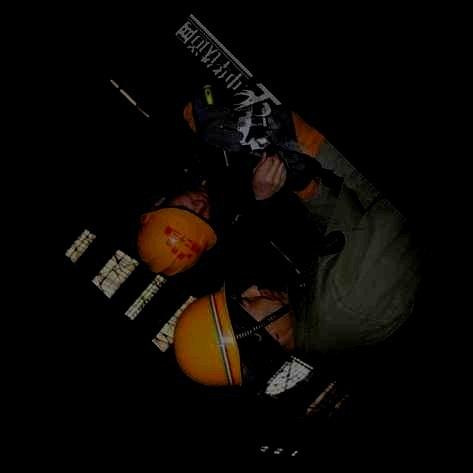helmet: (173, 281, 295, 388), (135, 190, 217, 277)
